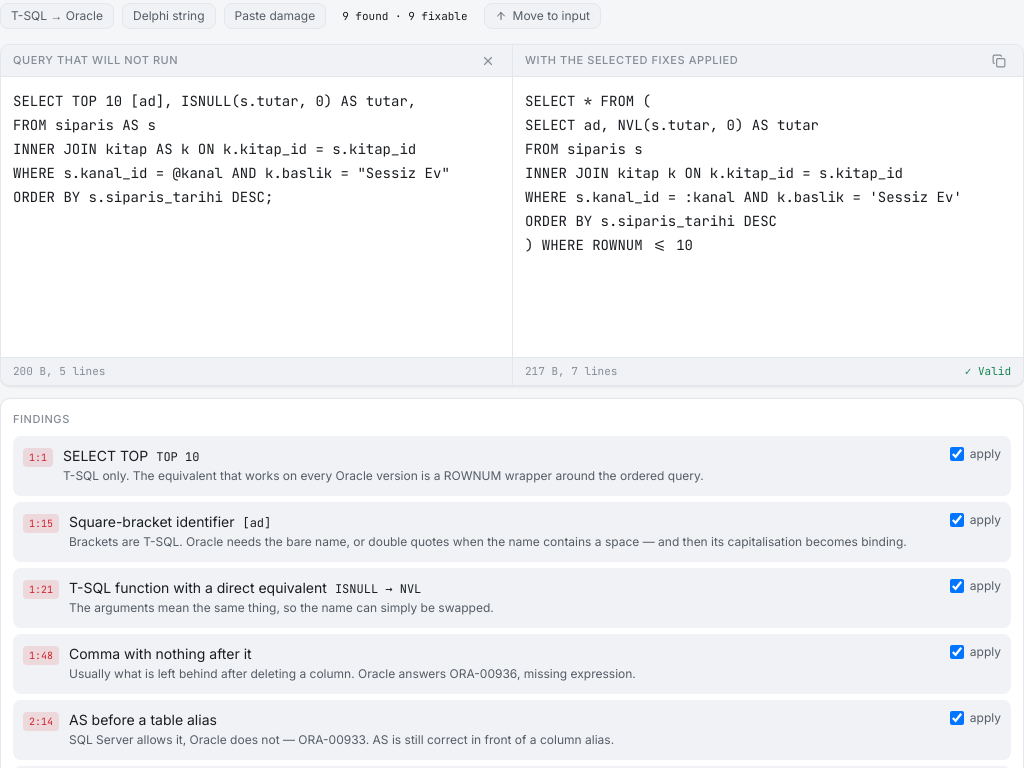
it: SqlFixTool › temiz sorguda bulgu listesi çıkmaz
Replace the text in the text box labelled "Query that will not run" with "select a from t": (256, 217) [1,77,512,357]
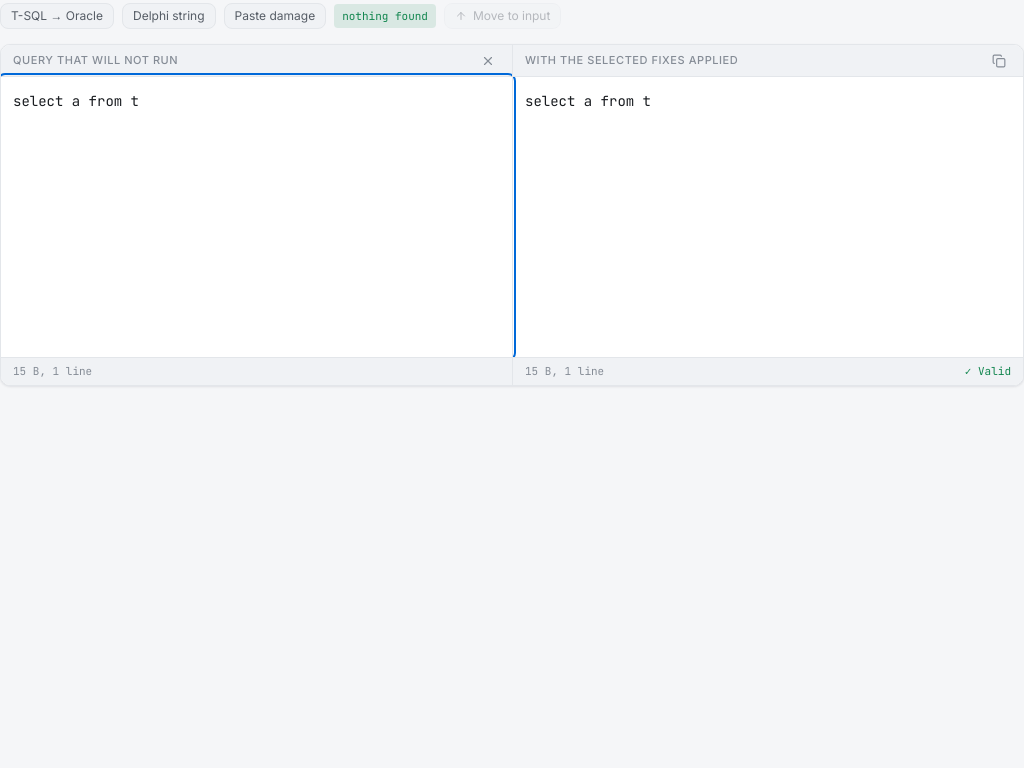
Expected: the text "nothing found" is shown, [334,4,436,28]
